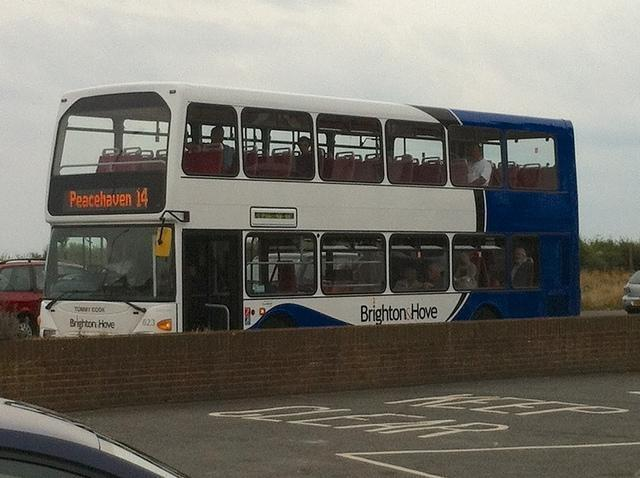bus: (36, 82, 582, 338)
car: (0, 398, 192, 478), (0, 258, 90, 336), (622, 270, 640, 310)
